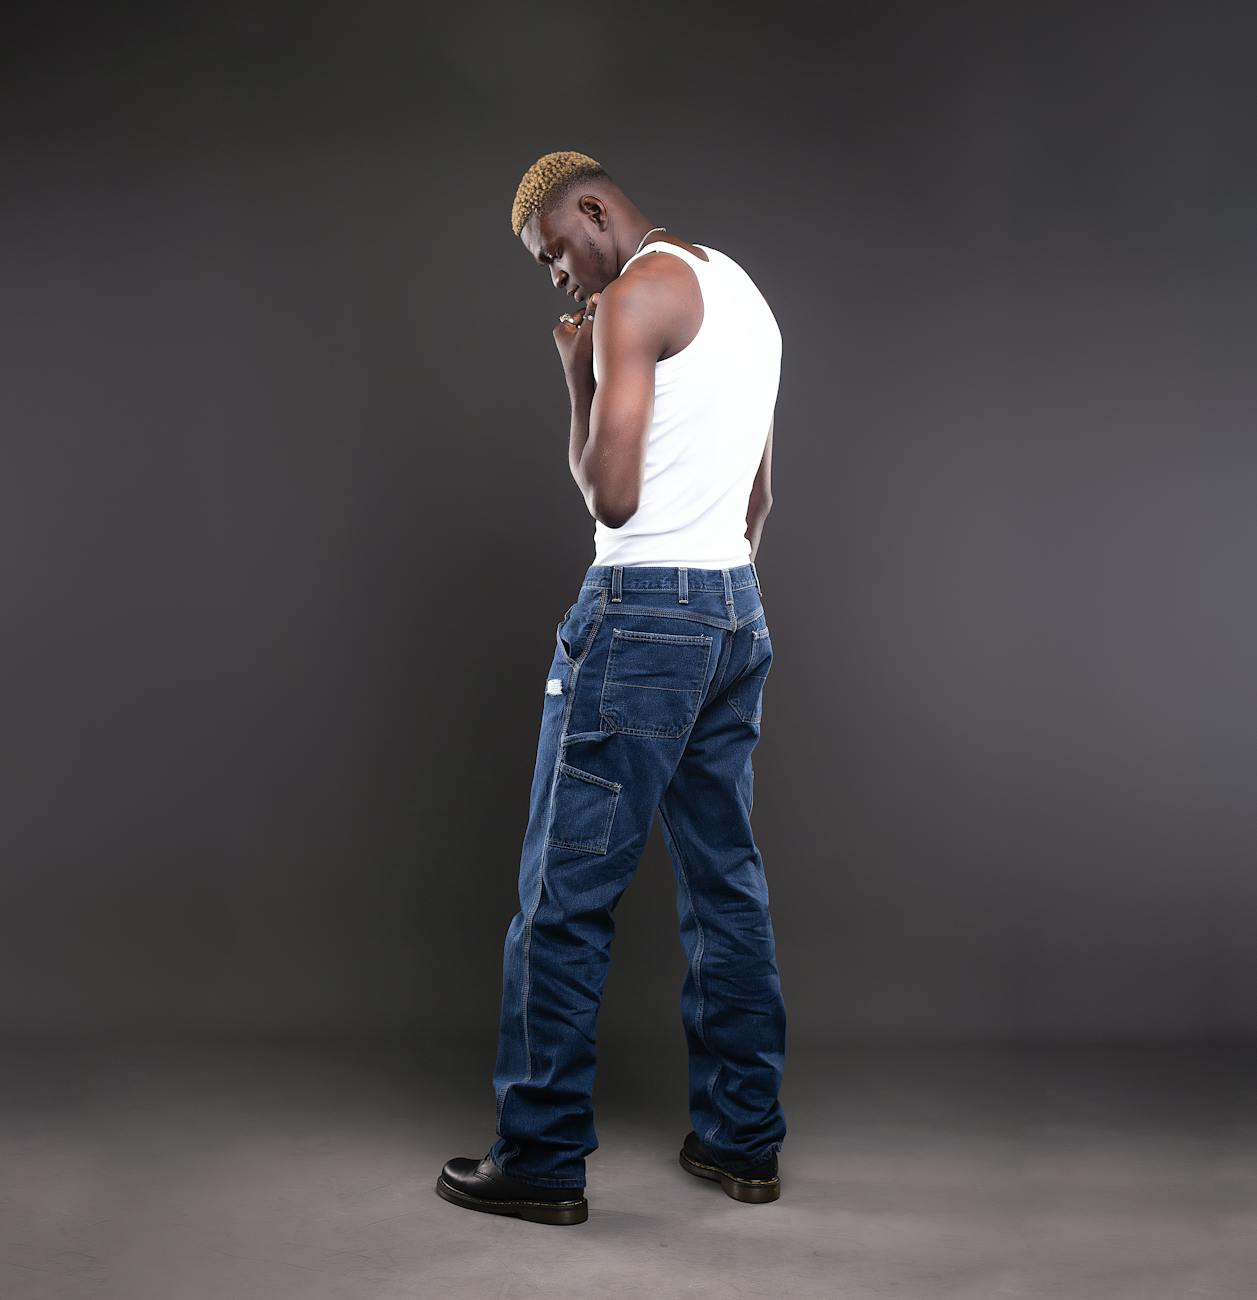sleeveless_top: (559, 219, 797, 550)
